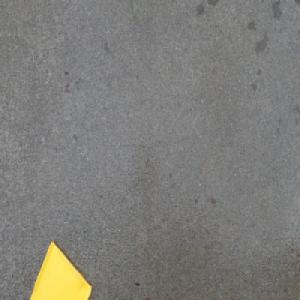PlasticPart: (27, 237, 93, 300)
